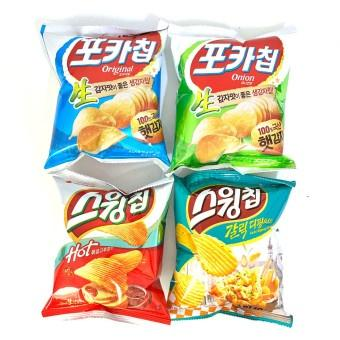snack: (43, 169, 176, 327), (162, 20, 298, 174), (167, 168, 298, 327), (40, 22, 169, 175)
